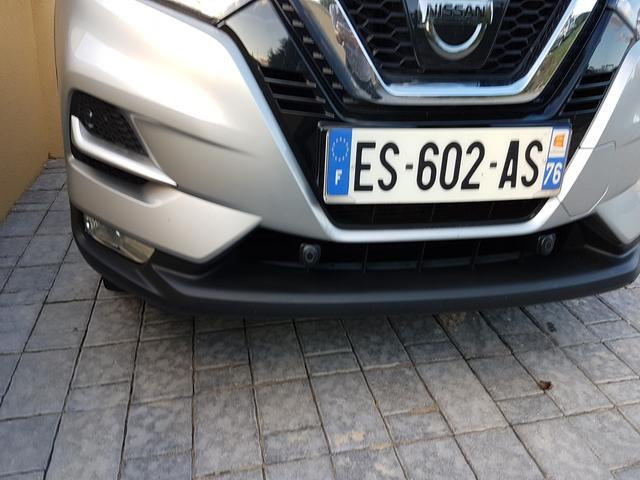Quashqai: (276, 88, 604, 232)
